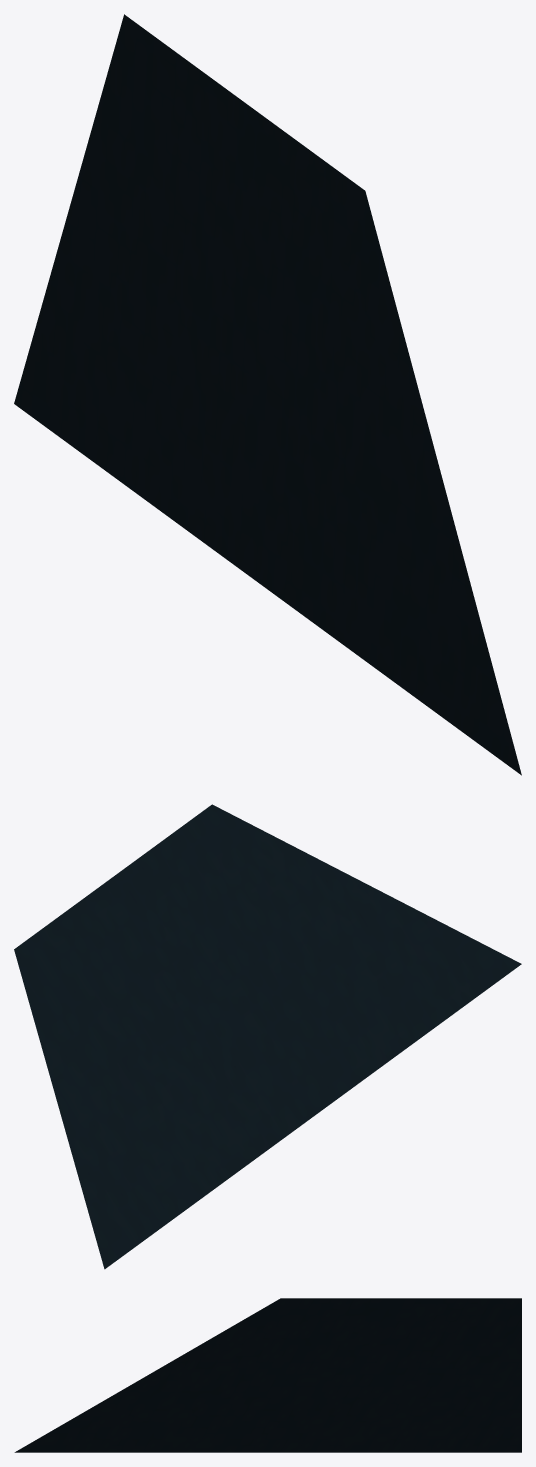
3 views of the same model, one above another, from view 1: azimuth 30°, elevation 25°; view 2: azimuth 150°, elevation 25°; view 3: azimuth 270°, elevation 25° (orthographic). The views are drawn at different scales.
Bounding box in the file's own units: 0.124 × 0.39 × 0.99.
1 material, 1 textured.
